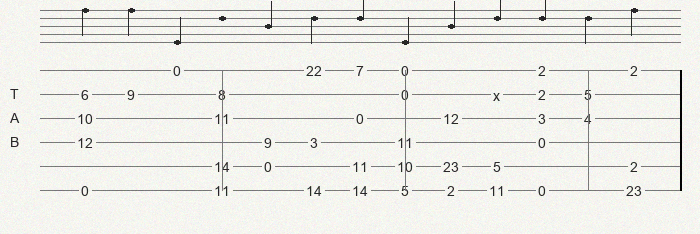0: (81, 183, 93, 197), (173, 63, 185, 77), (264, 159, 276, 173), (356, 111, 368, 125), (401, 87, 413, 101), (401, 63, 413, 77), (538, 135, 550, 149), (538, 183, 550, 197)
10: (77, 111, 97, 125), (397, 159, 417, 173)
11: (214, 183, 234, 197), (214, 111, 234, 125), (352, 159, 372, 173), (397, 135, 417, 149), (489, 183, 509, 197)
12: (77, 135, 97, 149), (443, 111, 463, 125)
14: (214, 159, 234, 173), (306, 183, 326, 197), (352, 183, 372, 197)
2: (447, 183, 459, 197), (538, 63, 550, 77), (538, 87, 550, 101), (630, 159, 642, 173), (630, 63, 642, 77)
22: (306, 63, 326, 77)
23: (443, 159, 463, 173), (626, 183, 646, 197)
3: (310, 135, 322, 149), (538, 111, 550, 125)
4: (584, 111, 596, 125)
5: (401, 183, 413, 197), (493, 159, 505, 173), (584, 87, 596, 101)
6: (81, 87, 93, 101)
7: (356, 63, 368, 77)
8: (218, 87, 230, 101)
9: (127, 87, 139, 101), (264, 135, 276, 149)
x: (493, 88, 504, 100)
